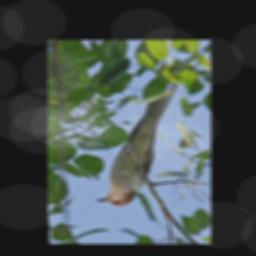Cuckoo: (95, 59, 181, 207)
